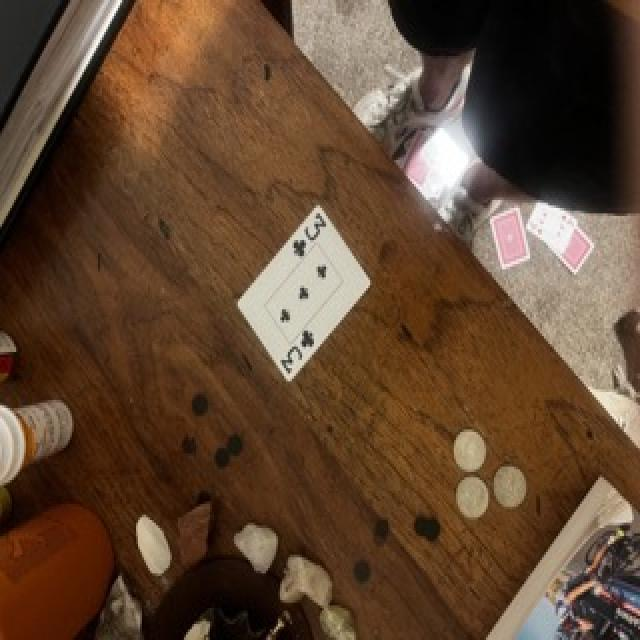3 of clubs: (238, 207, 370, 382)
